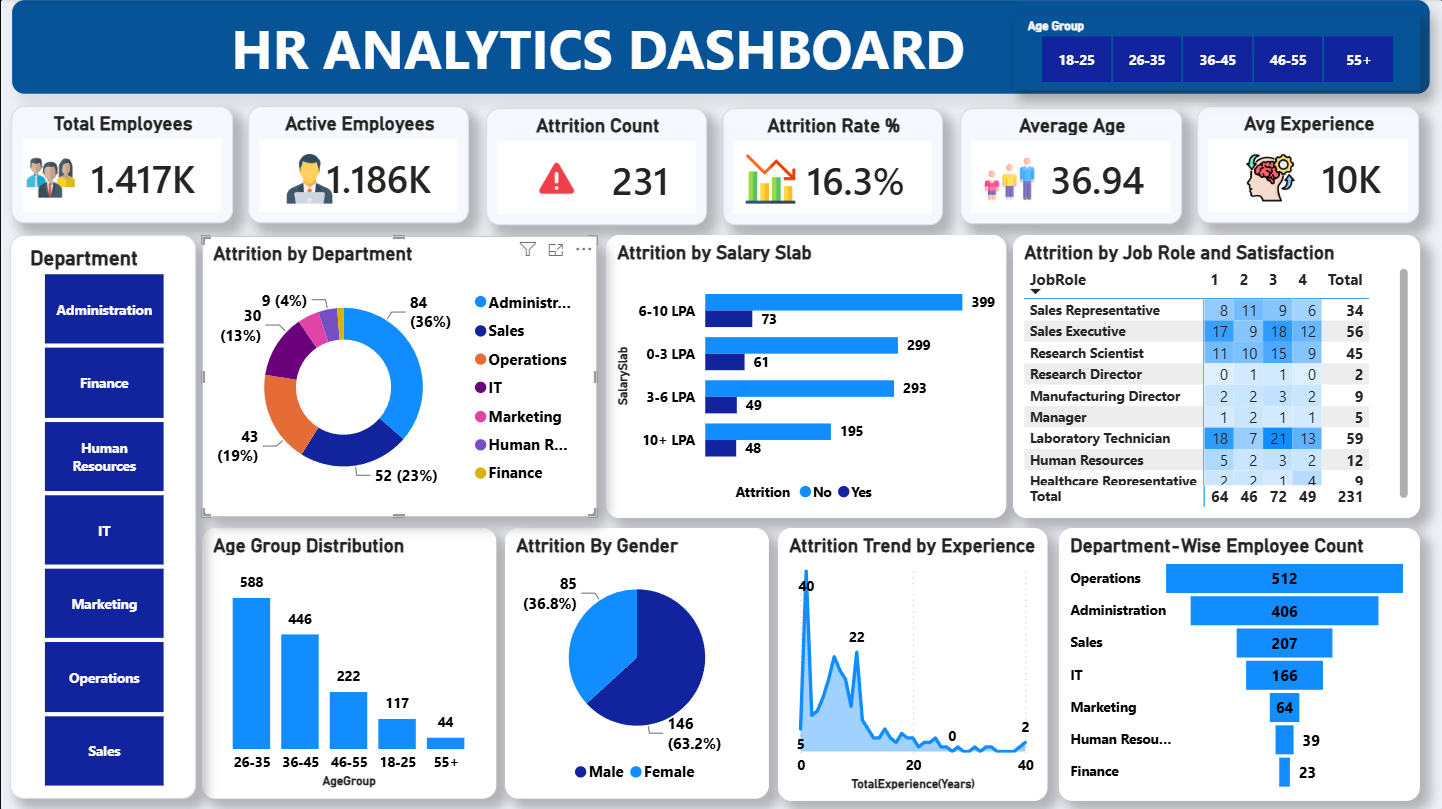

What the dashboard file says about the page in this screenshot:
{"tool":"powerbi","page":{"name":"Page 1","canvas":[1280,720],"ordinal":0},"visuals":[{"type":"textbox","box":[10,0,1259,85],"z":0},{"type":"cardVisual","title":"Total Employees","fields":{"Data":["CountNonNull(HR_Analytics-4.EmpID)"]},"box":[10,95,197,104],"z":1000},{"type":"cardVisual","title":"Active Employees","fields":{"Data":["CountNonNull(HR_Analytics-4.EmployeeCount)"]},"box":[220,95,196.5,104.1],"z":2000},{"type":"cardVisual","title":"Attrition Rate %","fields":{"Data":["HR_Analytics-4.Attrition Rate %"]},"box":[640,96.3,196.5,104.1],"z":3000},{"type":"cardVisual","title":"Average Age","fields":{"Data":["Avg(HR_Analytics-4.Age)"]},"box":[851.1,96.3,197.4,103.1],"z":4000},{"type":"cardVisual","title":"Avg Experience","fields":{"Data":["Sum(HR_Analytics-4.YearsatCompany)"]},"box":[1061.2,95.3,197.4,104.1],"z":5000},{"type":"cardVisual","title":"Attrition Count","fields":{"Data":["Sum(HR_Analytics-4.AttritionCount)"]},"box":[430.9,96.3,196.5,104.1],"z":6000},{"type":"image","box":[1083.2,136.9,86.9,44],"z":7000},{"type":"image","box":[851.1,137.1,87.5,43.8],"z":8000},{"type":"image","box":[640,137.1,86.6,43.8],"z":9000},{"type":"image","box":[449.4,137.1,87.5,43.8],"z":10000},{"type":"image","box":[230.5,137.1,87.5,43.8],"z":11000},{"type":"image","box":[0,136.9,90.9,44],"z":12000},{"type":"donutChart","title":"Attrition by Department","fields":{"Category":["HR_Analytics-4.Department"],"Y":["Sum(HR_Analytics-4.AttritionCount)"]},"box":[179,210,350,249],"z":13000},{"type":"clusteredBarChart","title":"Attrition by Salary Slab","fields":{"Y":["CountNonNull(HR_Analytics-4.EmpID)"],"Category":["HR_Analytics-4.SalarySlab"],"Series":["HR_Analytics-4.Attrition"]},"box":[537,209,355,251],"z":14000},{"type":"pivotTable","title":"Attrition by Job Role and Satisfaction","fields":{"Rows":["HR_Analytics-4.JobRole"],"Values":["Sum(HR_Analytics-4.AttritionCount)"],"Columns":["HR_Analytics-4.JobSatisfaction"]},"box":[898,209.1,361,251],"z":15000},{"type":"columnChart","title":"Age Group Distribution","fields":{"Category":["HR_Analytics-4.AgeGroup"],"Y":["Sum(HR_Analytics-4.EmployeeCount)"]},"box":[179,469,261,240],"z":16000},{"type":"pieChart","title":"Attrition By Gender","fields":{"Category":["HR_Analytics-4.Gender"],"Y":["Sum(HR_Analytics-4.AttritionCount)"]},"box":[448,469,234,240],"z":17000},{"type":"areaChart","title":"Attrition Trend by Experience","fields":{"Category":["HR_Analytics-4.TotalExperience(Years)"],"Y2":["Sum(HR_Analytics-4.AttritionCount)"]},"box":[689.6,468.8,239.3,242.2],"z":18000},{"type":"funnel","title":"Department-Wise Employee Count","fields":{"Category":["HR_Analytics-4.Department"],"Y":["CountNonNull(HR_Analytics-4.EmpID)"]},"box":[938.6,468.8,320,242.2],"z":19000},{"type":"slicer","fields":{"Values":["HR_Analytics-4.Department"]},"box":[9,209,165,500],"z":20000},{"type":"slicer","fields":{"Values":["HR_Analytics-4.AgeGroup"]},"box":[898,12,361,68],"z":21000}]}

Visuals, with their boxes in screenshot pixels (x1, y1, x2, y2), scaled from the page's 1280x720 canvas onto the 1442x809 screenshot:
textbox: l=11, t=0, r=1430, b=96
"Total Employees" cardVisual: l=11, t=107, r=233, b=224
"Active Employees" cardVisual: l=248, t=107, r=469, b=224
"Attrition Rate %" cardVisual: l=721, t=108, r=942, b=225
"Average Age" cardVisual: l=959, t=108, r=1181, b=224
"Avg Experience" cardVisual: l=1196, t=107, r=1418, b=224
"Attrition Count" cardVisual: l=485, t=108, r=707, b=225
image: l=1220, t=154, r=1318, b=203
image: l=959, t=154, r=1057, b=203
image: l=721, t=154, r=819, b=203
image: l=506, t=154, r=605, b=203
image: l=260, t=154, r=358, b=203
image: l=0, t=154, r=102, b=203
"Attrition by Department" donutChart: l=202, t=236, r=596, b=516
"Attrition by Salary Slab" clusteredBarChart: l=605, t=235, r=1005, b=517
"Attrition by Job Role and Satisfaction" pivotTable: l=1012, t=235, r=1418, b=517
"Age Group Distribution" columnChart: l=202, t=527, r=496, b=797
"Attrition By Gender" pieChart: l=505, t=527, r=768, b=797
"Attrition Trend by Experience" areaChart: l=777, t=527, r=1046, b=799
"Department-Wise Employee Count" funnel: l=1057, t=527, r=1418, b=799
slicer - HR_Analytics-4.Department: l=10, t=235, r=196, b=797
slicer - HR_Analytics-4.AgeGroup: l=1012, t=13, r=1418, b=90
